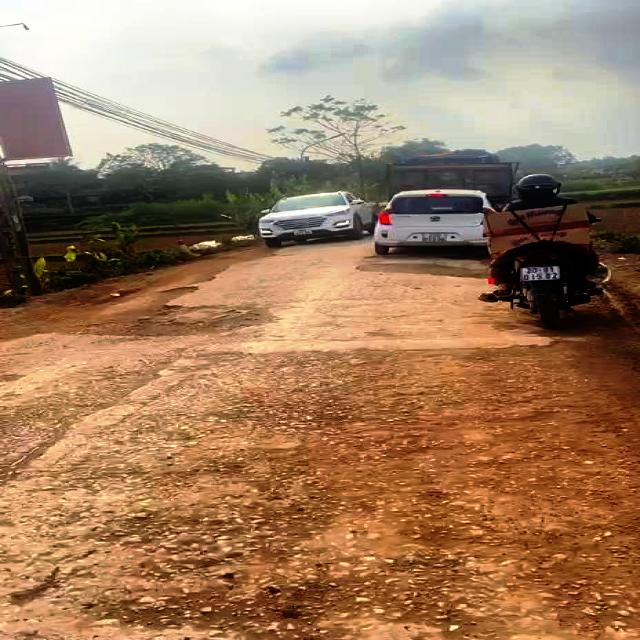pothole: (78, 567, 514, 640), (44, 284, 284, 340), (353, 259, 495, 280)
